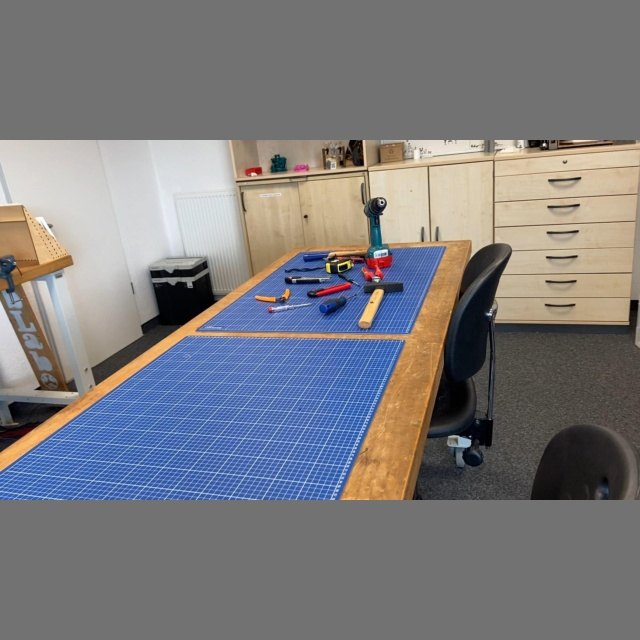drill: (362, 195, 395, 271)
screwdriver: (318, 293, 358, 315), (267, 301, 316, 314), (337, 272, 362, 288)
